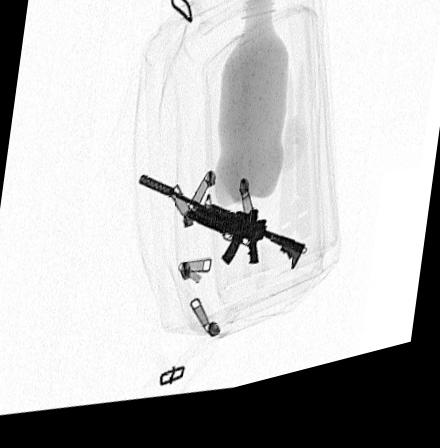Gun: (136, 179, 306, 284)
